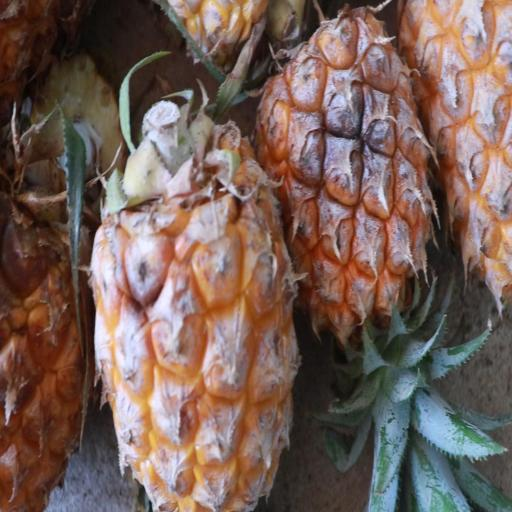Pineapple - v8 v1: (86, 120, 303, 511), (242, 0, 440, 385)
